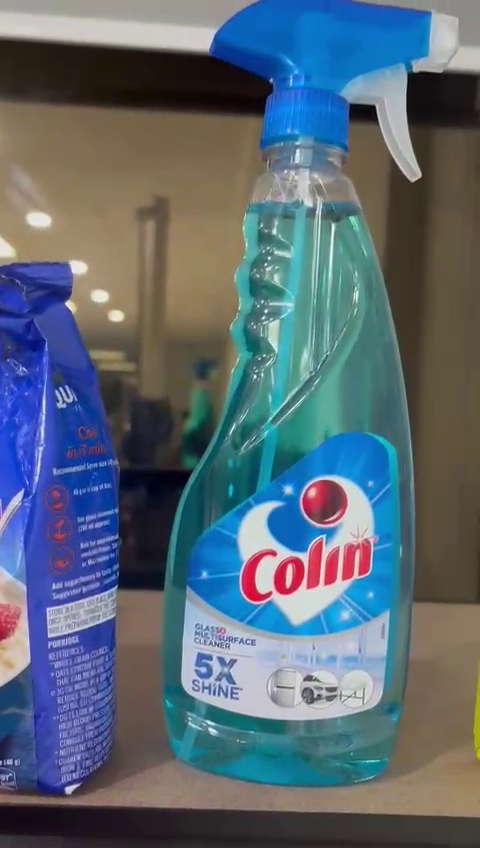Colin: (154, 0, 449, 792)
